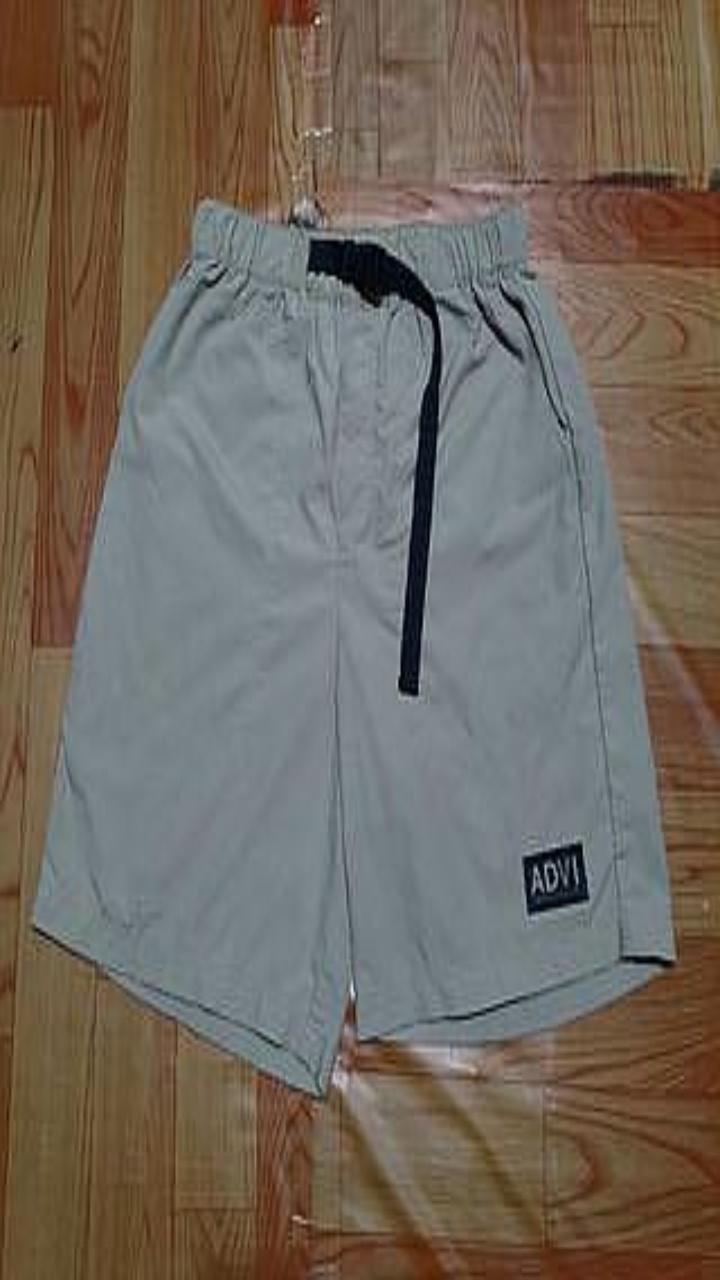Shorts: (32, 199, 674, 1095)
